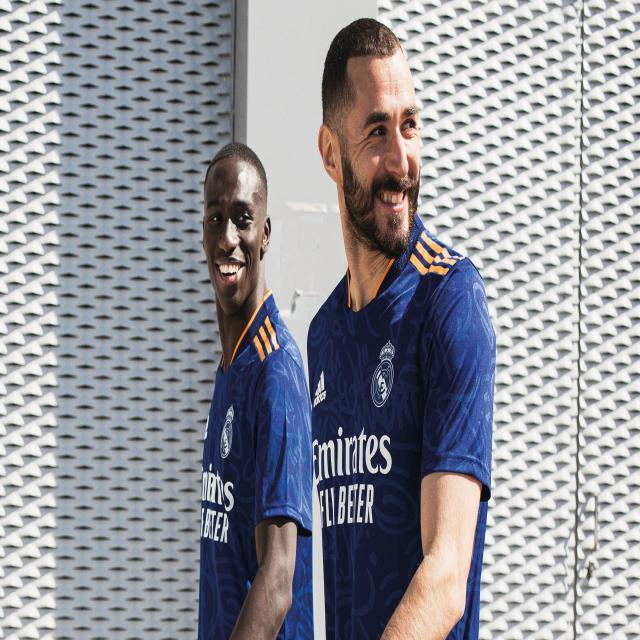Adidas: (313, 370, 326, 408)
Emirates: (312, 425, 392, 482)
